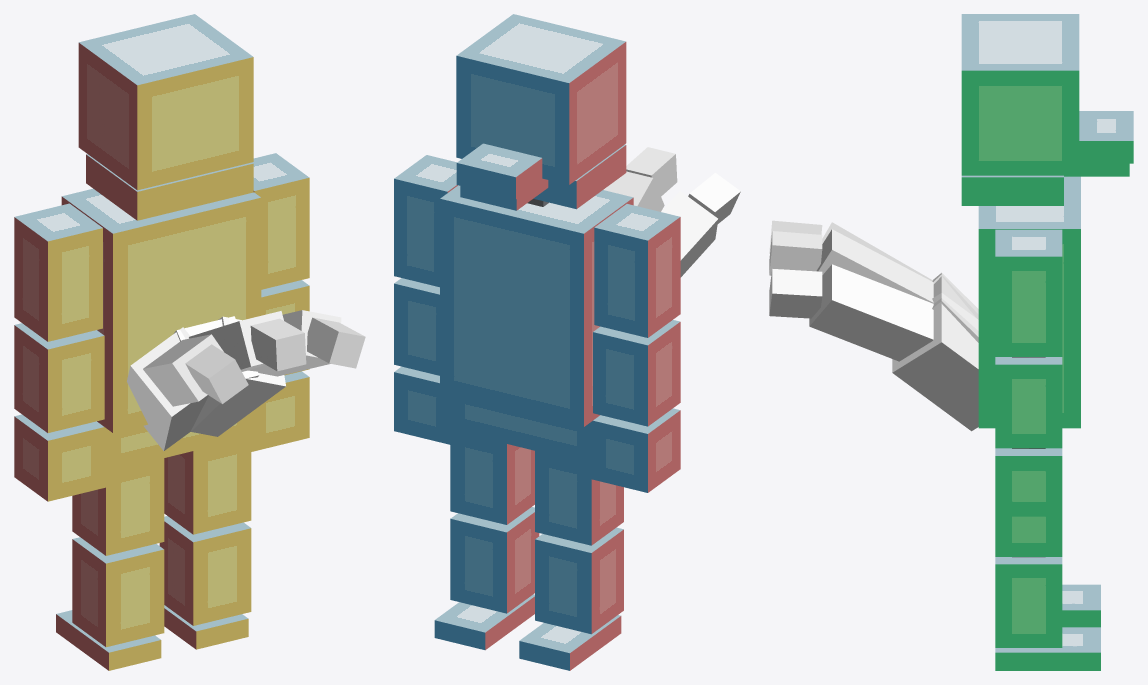
Rendered from FYGS Animatronic.gltf.
3 views of the same model, side by side, from view 1: azimuth 30°, elevation 25°; view 2: azimuth 150°, elevation 25°; view 3: azimuth 270°, elevation 25° (orthographic). The views are drawn at different scales.
Visible parts, largest first — view 1: suit (×16), cube (×9); view 2: suit (×18), cube (×4); view 3: suit (×12), cube (×8).
Part boxes in pixels (left/top/right/bottom): suit (×16): left=14, top=14, right=309, bottom=670; cube (×9): left=127, top=310, right=365, bottom=450; suit (×18): left=394, top=14, right=680, bottom=670; cube (×4): left=603, top=147, right=740, bottom=277; suit (×12): left=961, top=14, right=1133, bottom=670; cube (×8): left=769, top=220, right=978, bottom=431.
Size of the model in its own units: 1.12 by 2.44 by 1.36.
Materials: 3 (2 with a texture image).
